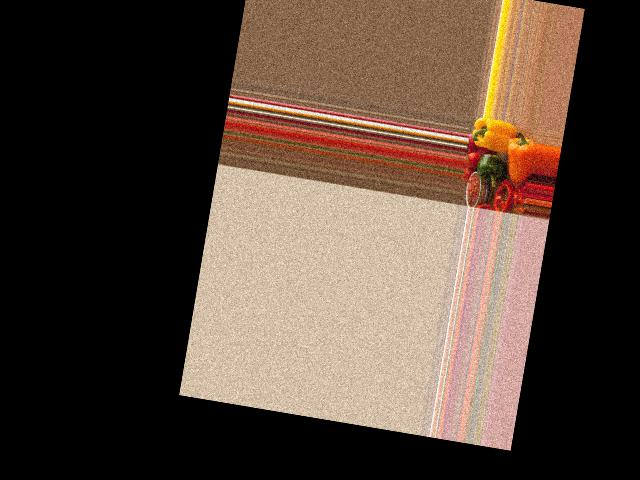bell_pepper: (470, 116, 510, 154)
